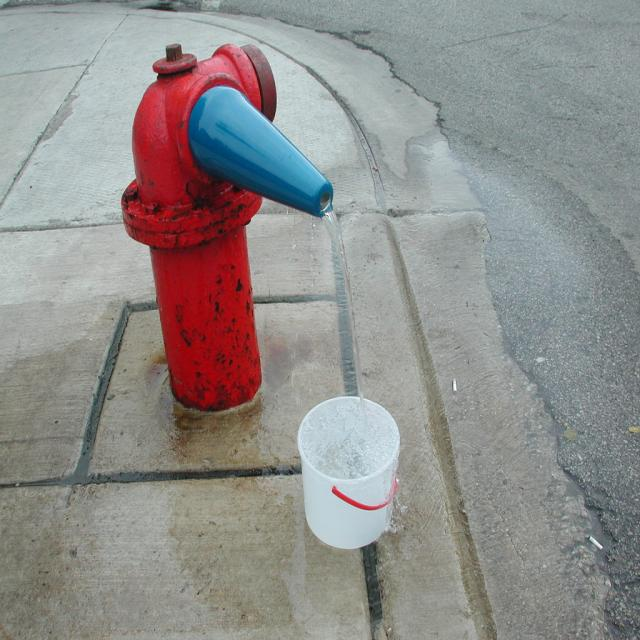fire_hydrant: (121, 41, 333, 411)
